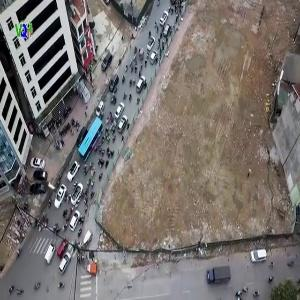drone: (15, 157, 76, 218)
